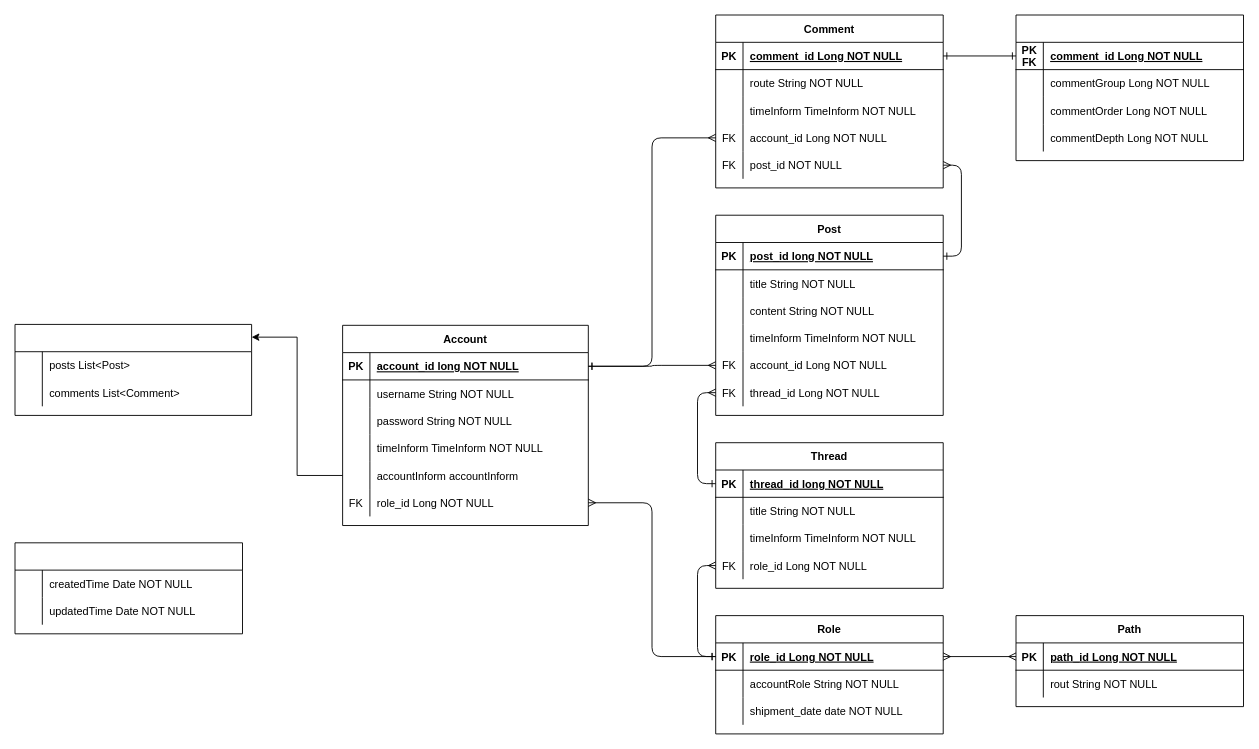
Image size: 1259x749. Some labels were removed from this diagram. Here are the shapes that lost their labels. From the top down, the box of each, then its label:
(1015, 14, 1244, 161): CommentPlus
(14, 324, 252, 415): AccountInform
(14, 542, 243, 634): TimeInform
